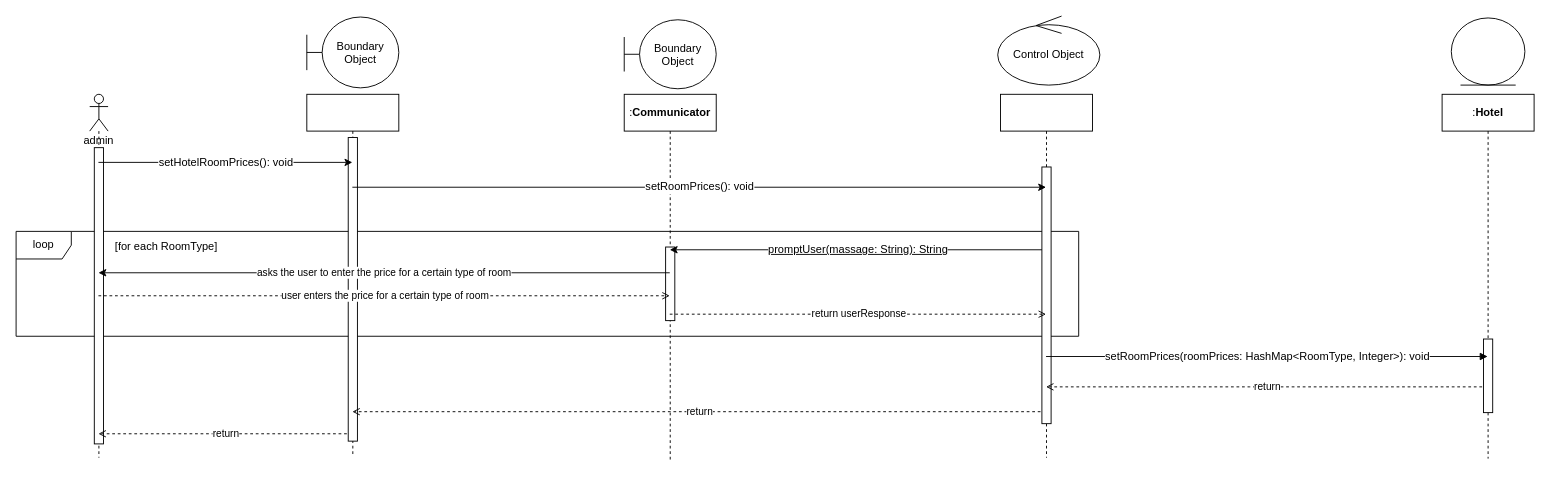
This 1550x477 diagram has some shape labels left out. Each missing label, with the box of its shape:
: AdminInterface: (306, 93, 399, 456)
:HotelCreator: (1000, 93, 1092, 458)
Entity Object: (1450, 17, 1525, 85)
